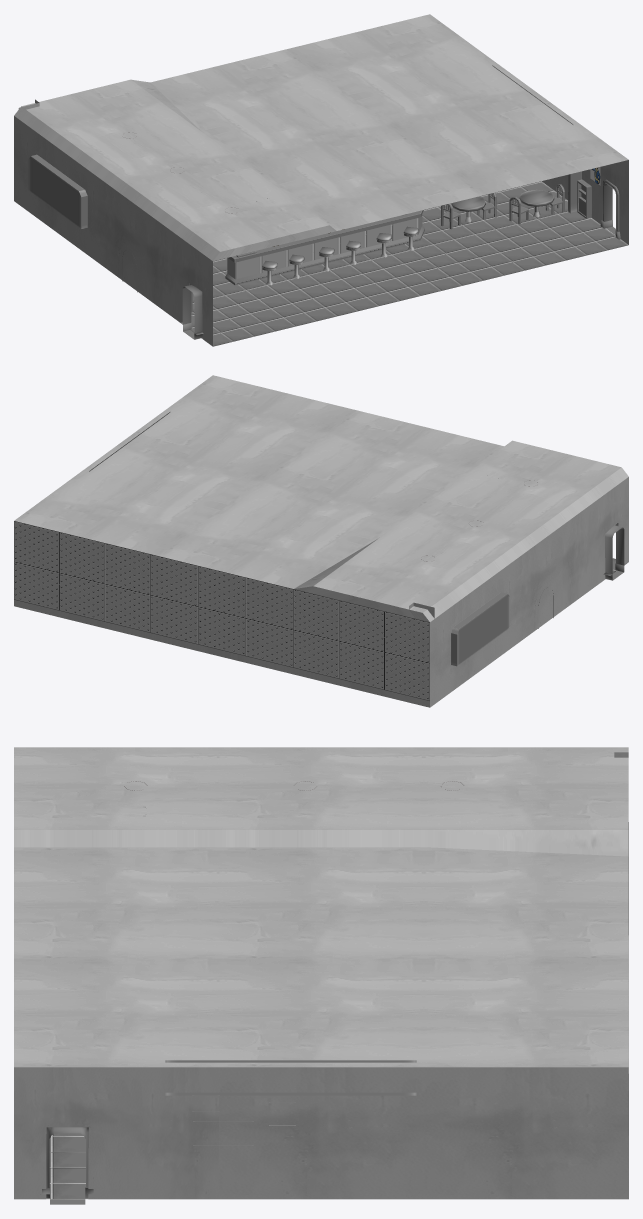
Rendered from MSH_Bar_room_L3_R3.fbx.
3 views of the same model, one above another, from view 1: azimuth 30°, elevation 25°; view 2: azimuth 150°, elevation 25°; view 3: azimuth 270°, elevation 25° (orthographic). The views are drawn at different scales.
Parts seen in each view (by area): view 1: MSH_Bar_room_L3_R3_Walls, MSH_Bar_room_L3_R3 1, MSH_Bar_room_L3_R3_lights; view 2: MSH_Bar_room_L3_R3_Walls, MSH_Bar_room_L3_R3_lights; view 3: MSH_Bar_room_L3_R3_Walls, MSH_Bar_room_L3_R3 1.
Boxes of the visible parts, <box> form: MSH_Bar_room_L3_R3_Walls: <box>14,14,628,346</box>; MSH_Bar_room_L3_R3 1: <box>18,65,600,311</box>; MSH_Bar_room_L3_R3_lights: <box>182,184,615,339</box>; MSH_Bar_room_L3_R3_Walls: <box>14,375,628,707</box>; MSH_Bar_room_L3_R3_lights: <box>605,525,624,580</box>; MSH_Bar_room_L3_R3_Walls: <box>14,747,628,1199</box>; MSH_Bar_room_L3_R3 1: <box>124,752,628,1145</box>.
Bounding box in the file's own units: 30.91 × 6.7 × 24.78.
Materials: 24 (23 with a texture image).
